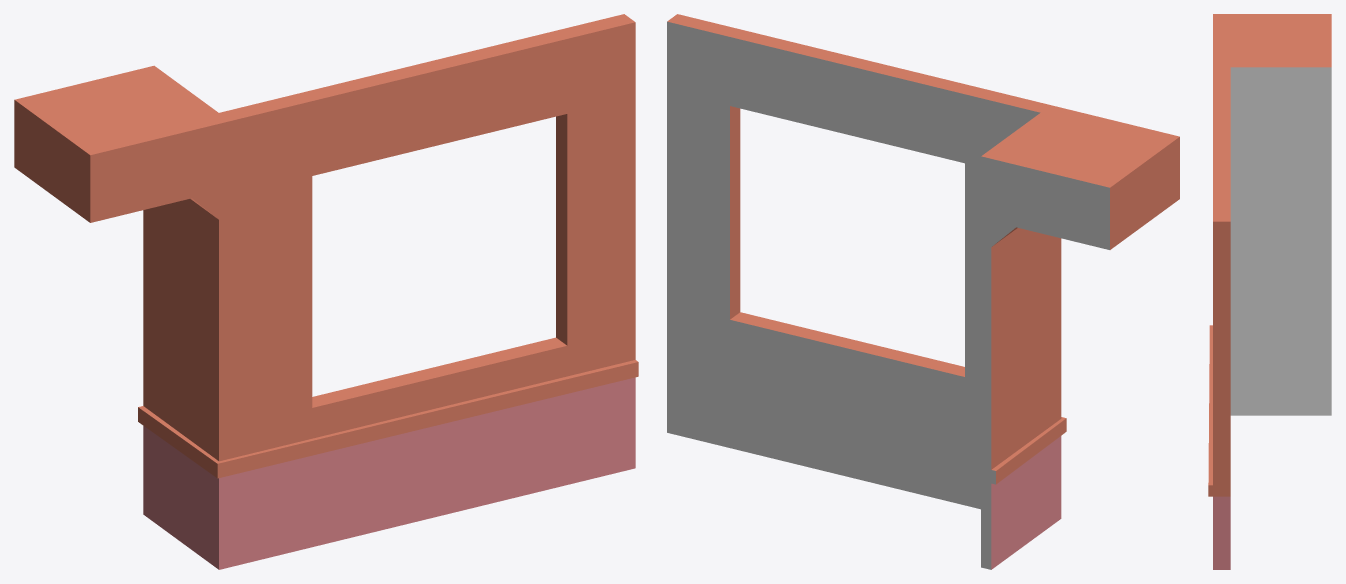
Rendered from SP_House02_WindowWall01.fbx.
3 views of the same model, side by side, from view 1: azimuth 30°, elevation 25°; view 2: azimuth 150°, elevation 25°; view 3: azimuth 270°, elevation 25° (orthographic). The views are drawn at different scales.
Parts seen in each view (by area): view 1: SP_House02_WindowWall01; view 2: SP_House02_WindowWall01; view 3: SP_House02_WindowWall01.
Part boxes in pixels (x1,y1,x2,y2): SP_House02_WindowWall01: (14,14,638,569); SP_House02_WindowWall01: (667,14,1179,569); SP_House02_WindowWall01: (1208,14,1331,569).
Size of the model in its own units: 5.59 by 4.37 by 1.4.
